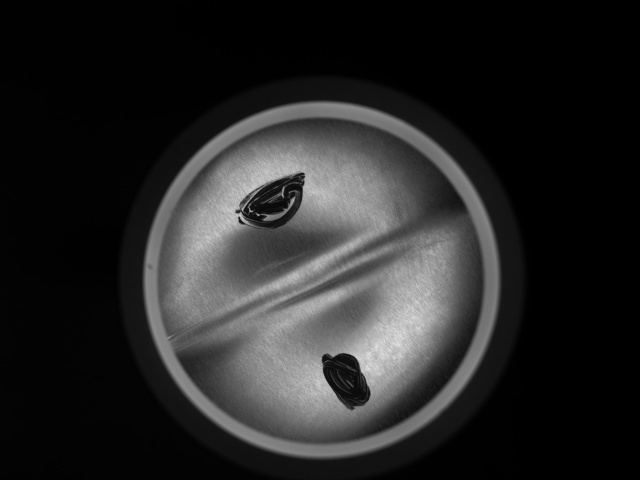zang_wu: (231, 171, 308, 231), (319, 350, 373, 411)
zhe_zhou: (203, 146, 442, 414)
